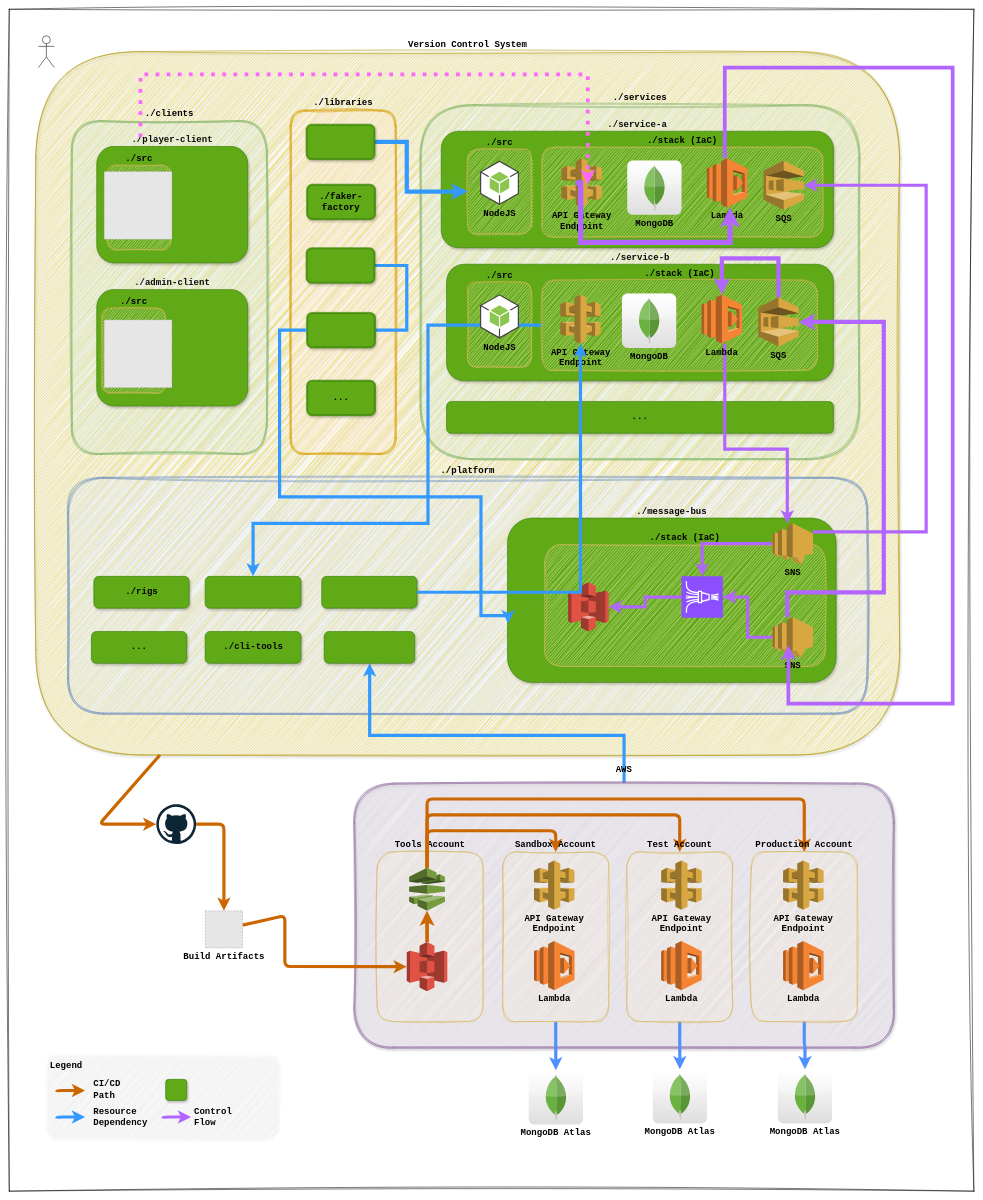
This 983x1200 diagram has some shape labels left out. Grey dashed boxes stand in for pictures. The shapes that lost their labels are listed below. From the top down, each one's centre as x and y in pixels, then its label:
At (x=46, y=51): "Actor".
At (x=340, y=142): "./nestjs-modules".
At (x=340, y=266): "./validation-schema".
At (x=341, y=331): "./message-schemas".
At (x=253, y=593): "./constructs (L3)".
At (x=369, y=593): "./api-gateway".
At (x=588, y=606): "S3 DataLake".
At (x=702, y=597): "Kinesis Firehouse".
At (x=369, y=648): "./org-formation".
At (x=176, y=824): "Github Actions".
At (x=427, y=889): "CodePipeline".
At (x=426, y=966): "S3".
At (x=176, y=1090): "Package/Project".
